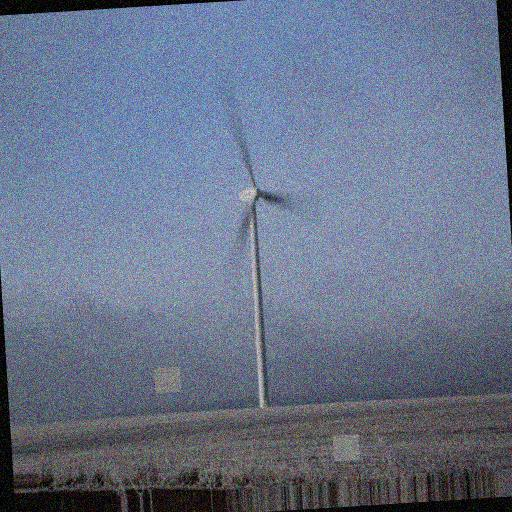wind turbine: (215, 92, 313, 408)
